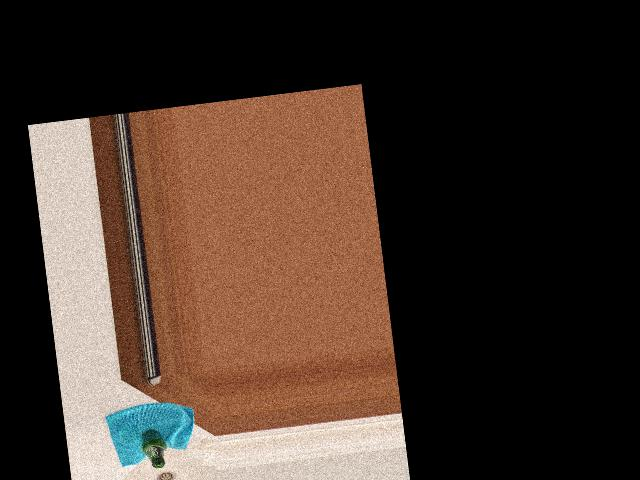beer: (140, 427, 169, 469)
